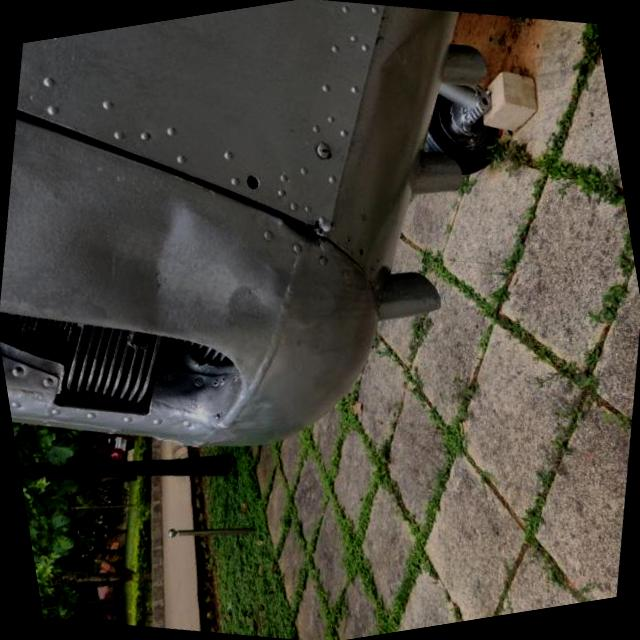Missing Fastener: (247, 172, 262, 188)
dent: (98, 180, 235, 337)
